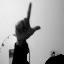l: (14, 2, 42, 42)
